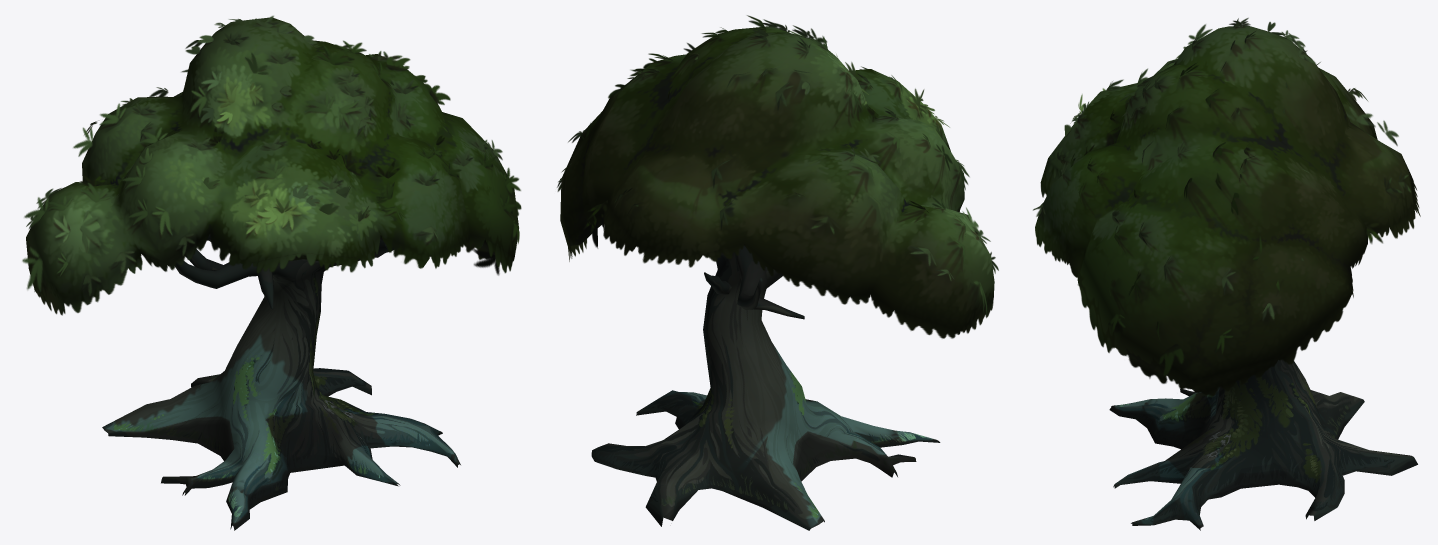
Rendered from tree.gltf.
The picture shows the model from 3 angles, left to right: view 1: azimuth 30°, elevation 25°; view 2: azimuth 150°, elevation 25°; view 3: azimuth 270°, elevation 25°; orthographic projection. The views are drawn at different scales.
Visible parts, largest first — view 1: Tree up, Tree main; view 2: Tree up, Tree main; view 3: Tree up, Tree main.
Boxes of the visible parts, <box> form: Tree up: <box>22,15,521,315</box>; Tree main: <box>102,234,460,530</box>; Tree up: <box>557,15,998,338</box>; Tree main: <box>591,246,940,530</box>; Tree up: <box>1033,18,1420,396</box>; Tree main: <box>1109,359,1417,530</box>.
Bounding box in the file's own units: 123 × 114 × 94.51.
2 materials, 2 textured.
